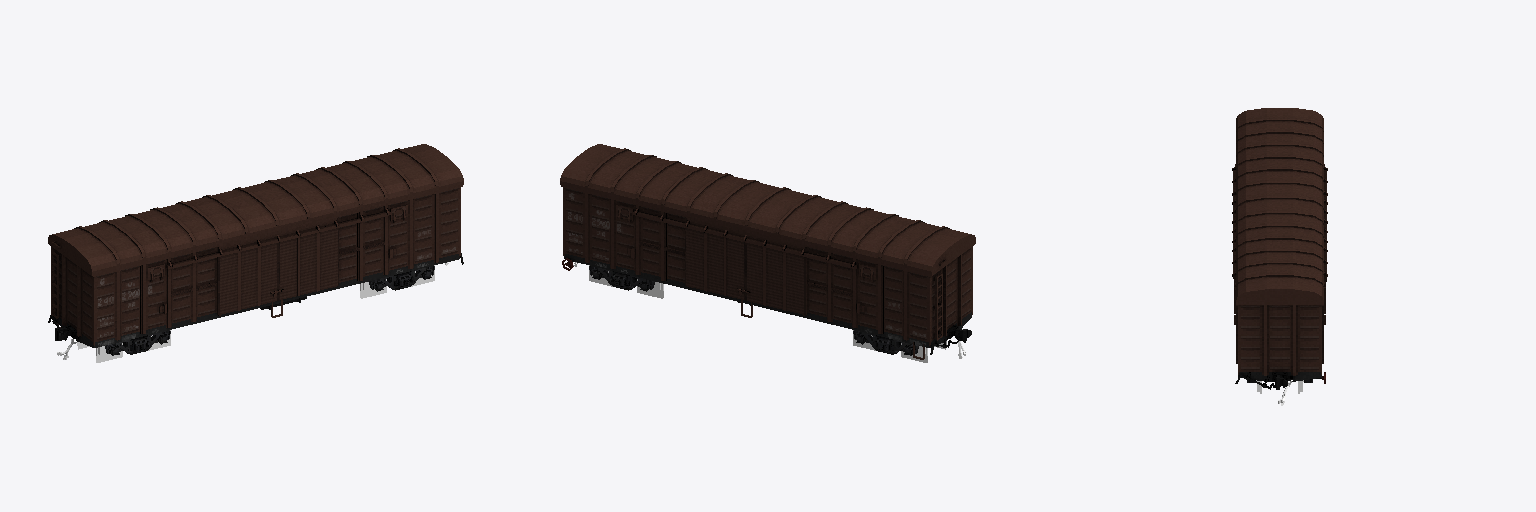
3 renders of one model, left to right at view 1: azimuth 30°, elevation 25°; view 2: azimuth 150°, elevation 25°; view 3: azimuth 270°, elevation 25°, orthographic.
Parts seen in each view (by area): view 1: FRAME_freight, DOOR_3_TL_-2.5_X_freight, DOOR_4_TL_2.5_X_freight, BOGEY_REAR_freight, BOGEY_FRONT_freight; view 2: FRAME_freight, DOOR_1_TL_-2.5_X_freight, DOOR_2_TL_2.5_X_freight, BOGEY_REAR_freight, BOGEY_FRONT_freight; view 3: FRAME_freight.
Boxes of the visible parts, x1,y1,x2,y2 form: FRAME_freight: [48, 144, 463, 347]; DOOR_3_TL_-2.5_X_freight: [217, 243, 278, 314]; DOOR_4_TL_2.5_X_freight: [271, 228, 338, 299]; BOGEY_REAR_freight: [369, 266, 434, 291]; BOGEY_FRONT_freight: [105, 330, 170, 355]; FRAME_freight: [560, 144, 975, 359]; DOOR_1_TL_-2.5_X_freight: [737, 243, 806, 314]; DOOR_2_TL_2.5_X_freight: [685, 228, 744, 299]; BOGEY_REAR_freight: [589, 266, 654, 291]; BOGEY_FRONT_freight: [853, 330, 918, 355]; FRAME_freight: [1232, 108, 1327, 389].
Size of the model in its own units: 17.75 by 5.01 by 3.69.
Materials: 4 (2 with a texture image).